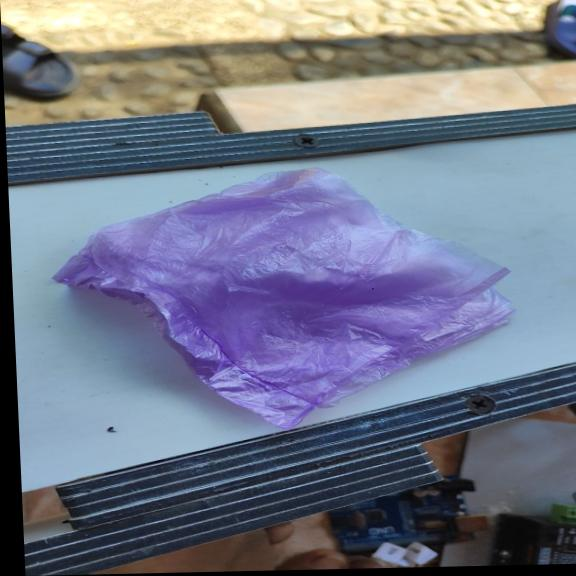Plastik: (50, 161, 524, 436)
